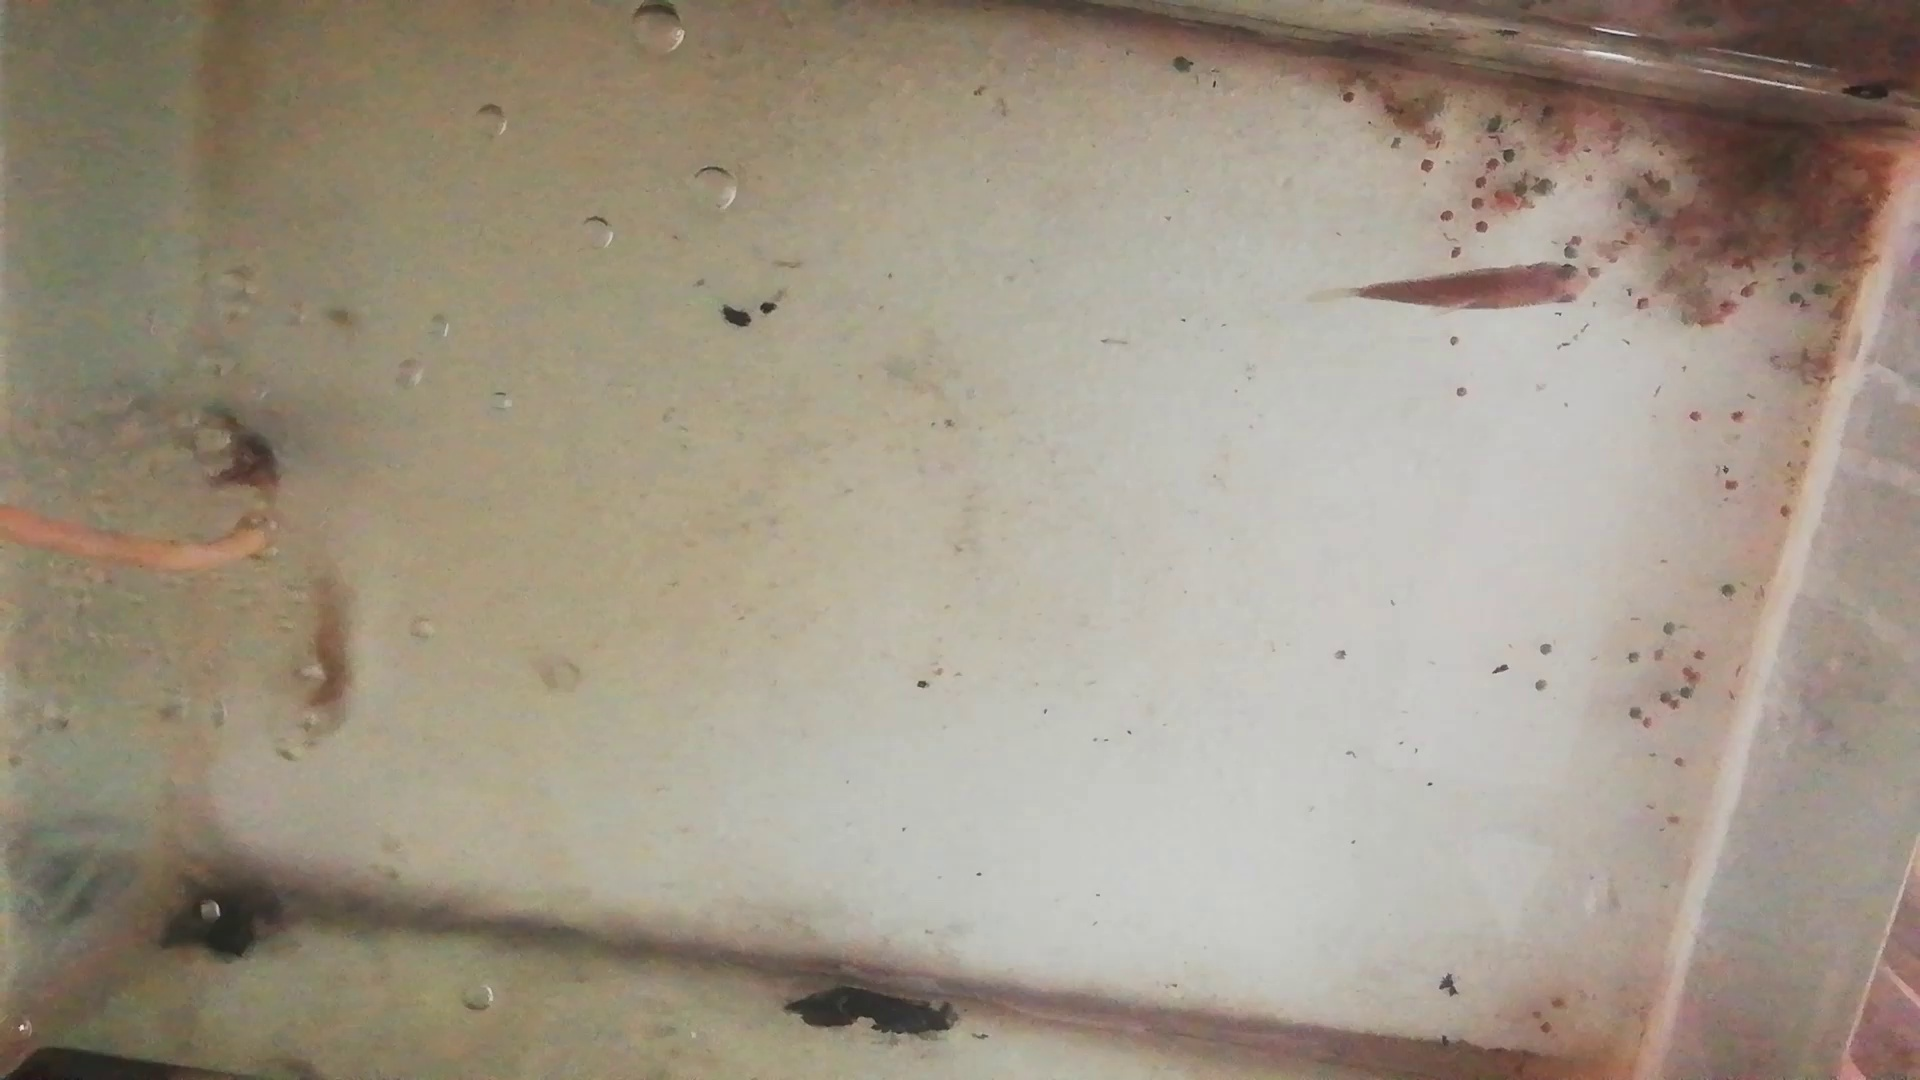fish: (1358, 265, 1604, 315), (302, 560, 357, 748)
